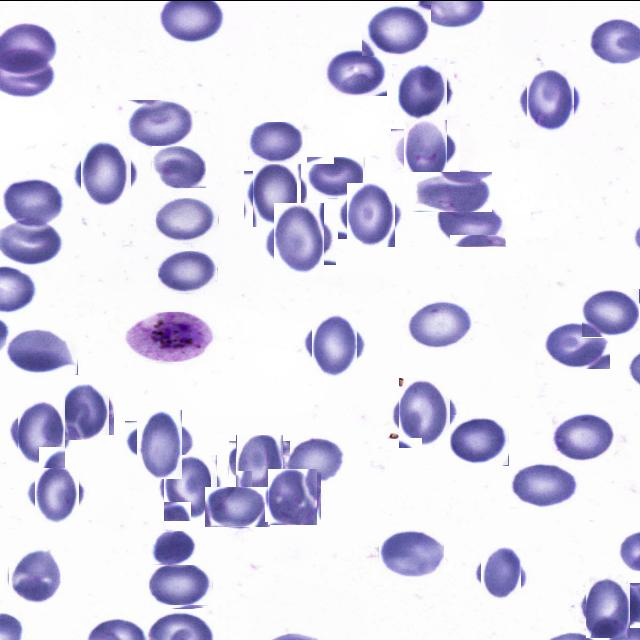red blood cell: (268, 208, 330, 270), (161, 457, 221, 517), (395, 382, 455, 442), (362, 4, 431, 55), (406, 298, 474, 348), (6, 327, 78, 374), (130, 414, 188, 472), (77, 144, 135, 202), (510, 461, 581, 508), (409, 171, 492, 211), (13, 403, 70, 461), (127, 99, 194, 148), (342, 185, 399, 242), (379, 529, 445, 578), (2, 176, 66, 226), (248, 165, 304, 222), (437, 200, 506, 246), (552, 412, 615, 462), (394, 60, 450, 116), (398, 122, 453, 178), (307, 316, 362, 372), (546, 320, 610, 368), (7, 547, 62, 602), (524, 72, 578, 128), (450, 414, 509, 465), (149, 561, 213, 608), (232, 437, 287, 491), (581, 577, 635, 632), (57, 382, 111, 436), (286, 437, 348, 484), (156, 197, 219, 243), (326, 48, 387, 95), (582, 288, 640, 337), (266, 470, 320, 522), (31, 467, 82, 519), (205, 486, 270, 526), (158, 250, 218, 293), (307, 156, 366, 198), (248, 121, 304, 164), (152, 145, 206, 187), (478, 550, 524, 596), (147, 530, 200, 564)
schizont: (125, 310, 215, 362)
